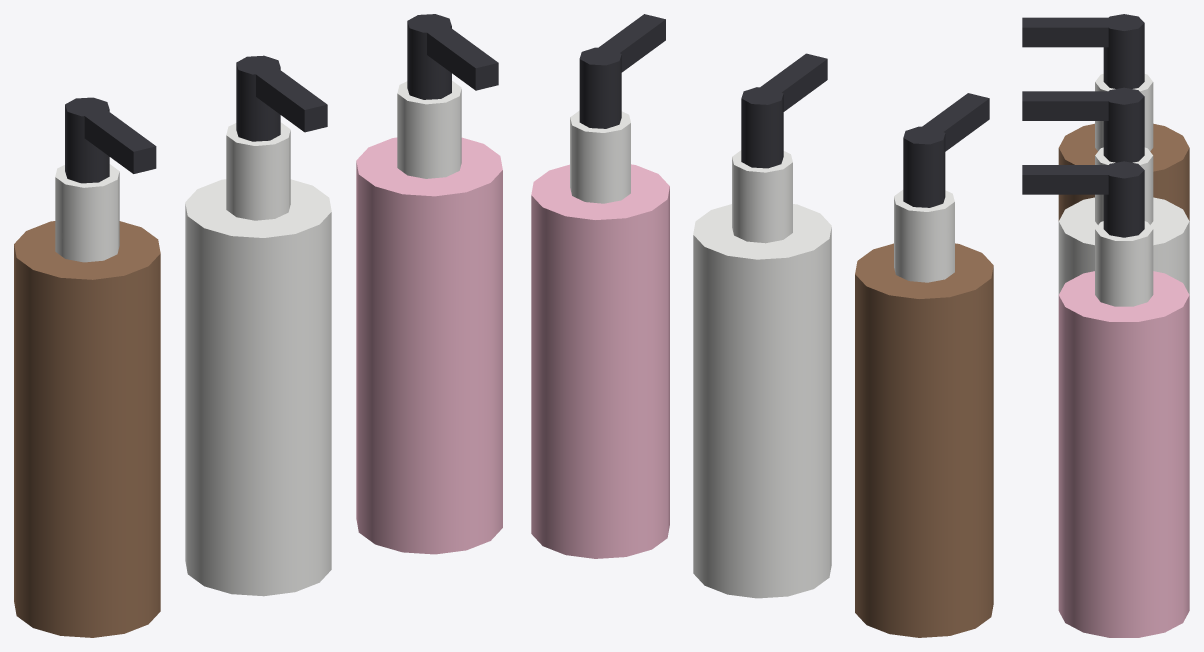
File: SM_SyrupBottles.fbx
3 renders of one model, left to right at view 1: azimuth 30°, elevation 25°; view 2: azimuth 150°, elevation 25°; view 3: azimuth 270°, elevation 25°, orthographic. The views are drawn at different scales.
Visible parts, largest first — view 1: SM_SyrupBottles; view 2: SM_SyrupBottles; view 3: SM_SyrupBottles.
Boxes of the visible parts, box(x1,y1,x2,y2) form: SM_SyrupBottles: box(14, 14, 502, 637); SM_SyrupBottles: box(531, 14, 993, 637); SM_SyrupBottles: box(1022, 14, 1189, 637).
Size of the model in its own units: 0.3277 by 0.335 by 0.115.
